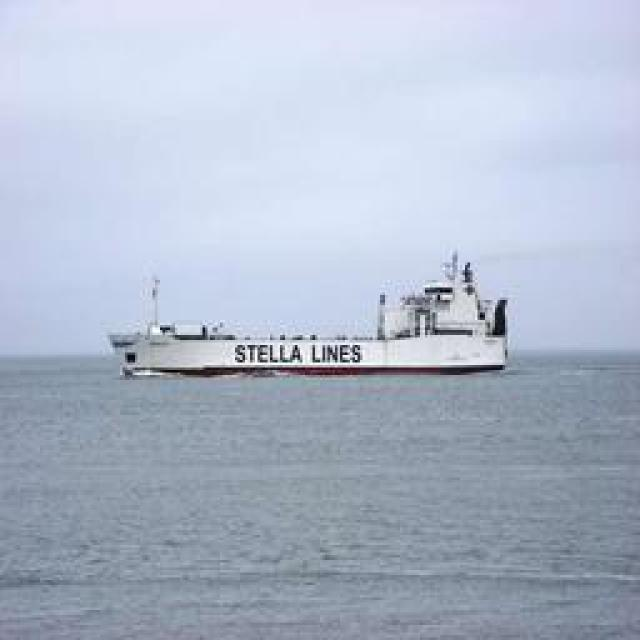Ship: (102, 251, 512, 381)
